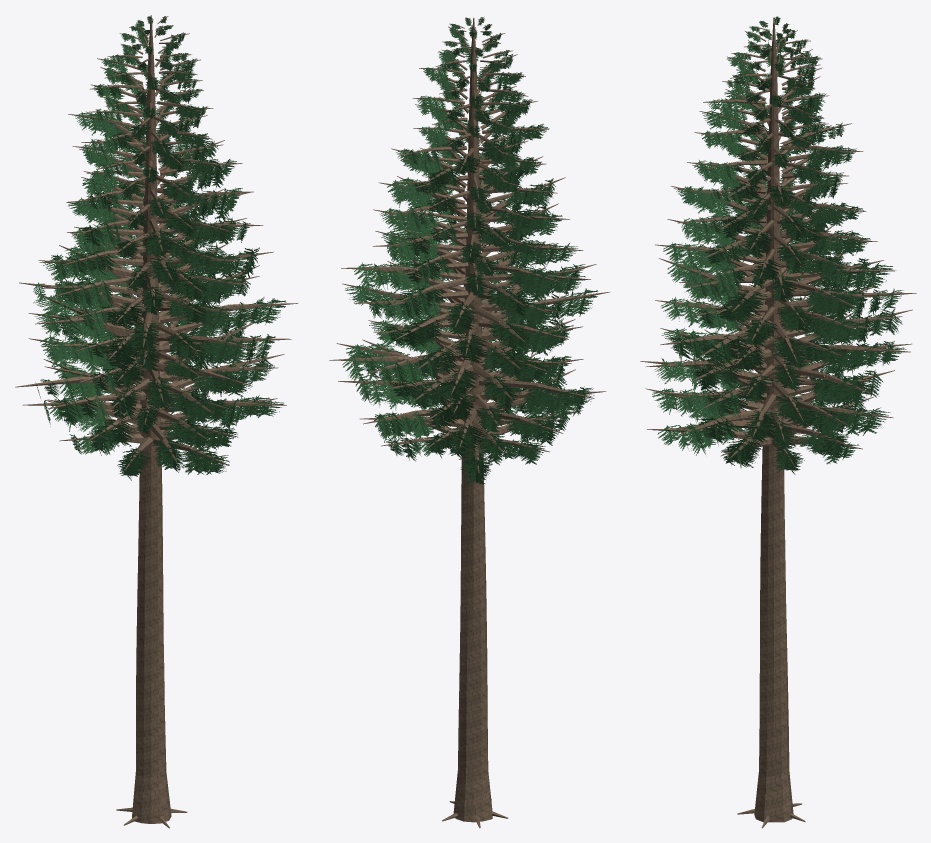
The picture shows the model from 3 angles, left to right: view 1: azimuth 30°, elevation 25°; view 2: azimuth 150°, elevation 25°; view 3: azimuth 270°, elevation 25°; orthographic projection.
Parts seen in each view (by area): view 1: VIS_NeedleCards_LOD0, VIS_Bark; view 2: VIS_NeedleCards_LOD0, VIS_Bark; view 3: VIS_NeedleCards_LOD0, VIS_Bark.
Part boxes in pixels (<box>): VIS_NeedleCards_LOD0: <box>33,16,286,480</box>; VIS_Bark: <box>15,15,298,828</box>; VIS_NeedleCards_LOD0: <box>342,17,598,484</box>; VIS_Bark: <box>329,16,609,828</box>; VIS_NeedleCards_LOD0: <box>652,16,906,474</box>; VIS_Bark: <box>640,16,916,828</box>.
Bounding box in the file's own units: 6.24 × 18.5 × 5.81.
2 materials, 2 textured.
